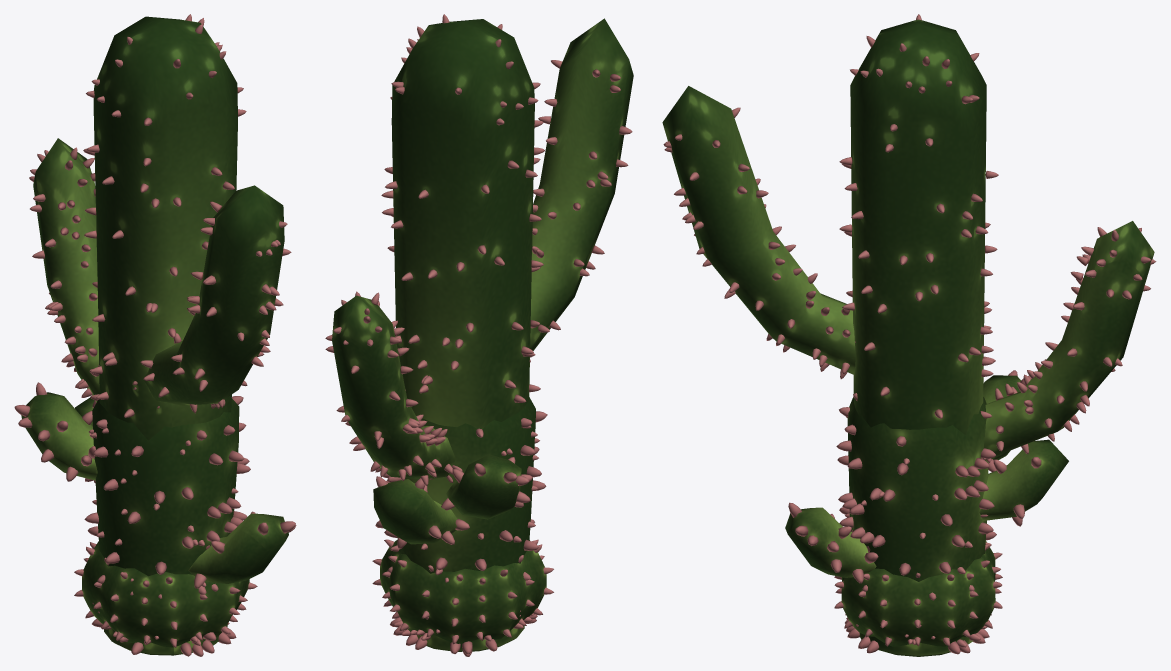
File: Cactus.fbx
The picture shows the model from 3 angles, left to right: view 1: azimuth 30°, elevation 25°; view 2: azimuth 150°, elevation 25°; view 3: azimuth 270°, elevation 25°; orthographic projection.
Parts seen in each view (by area): view 1: Cactus_Big, Cactus_Fat, Cactus, Cactus_Small; view 2: Cactus_Big, Cactus_Fat, Cactus_Small, Cactus; view 3: Cactus_Big, Cactus_Fat, Cactus_Small, Cactus.
Boxes of the visible parts, x1,y1,x2,y2 form: Cactus_Big: (29, 14, 291, 655); Cactus_Fat: (75, 396, 249, 656); Cactus: (14, 382, 296, 656); Cactus_Small: (74, 541, 257, 647); Cactus_Big: (325, 14, 633, 651); Cactus_Fat: (373, 397, 546, 656); Cactus_Small: (372, 539, 553, 644); Cactus: (383, 411, 547, 649); Cactus_Big: (662, 14, 1156, 656); Cactus_Fat: (837, 393, 1068, 654); Cactus_Small: (834, 540, 1002, 646); Cactus: (785, 370, 1031, 653).
Bounding box in the file's own units: 105 × 335 × 247.
Materials: 1 (1 with a texture image).
